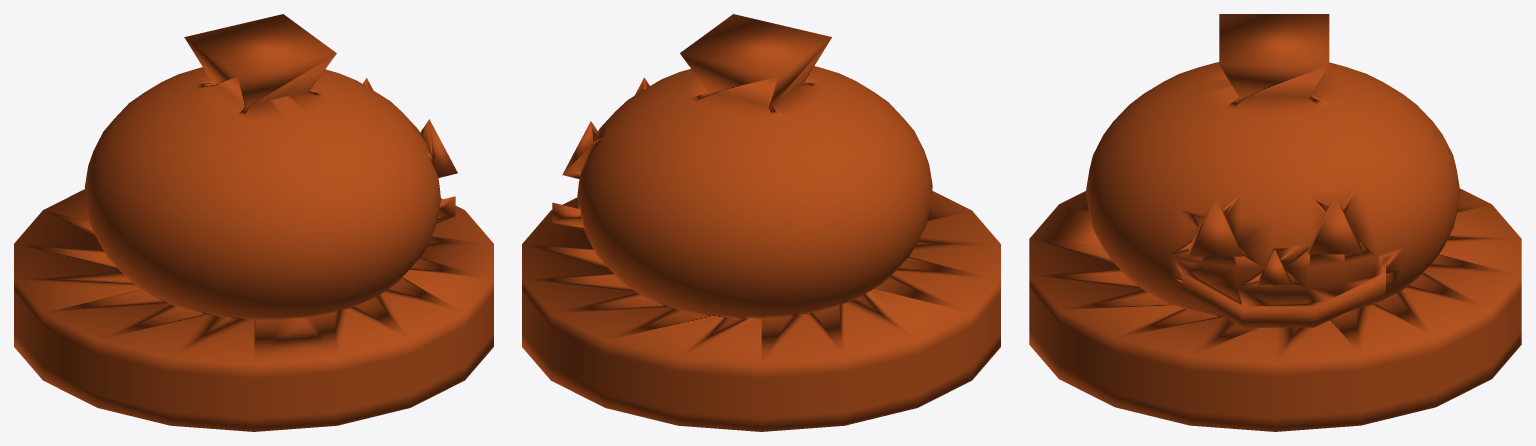
The model's file is Jacob the Pumpkin.obj.
3 views of the same model, side by side, from view 1: azimuth 30°, elevation 25°; view 2: azimuth 150°, elevation 25°; view 3: azimuth 270°, elevation 25° (orthographic). The views are drawn at different scales.
Parts seen in each view (by area): view 1: Jacon_the_Pumpkin; view 2: Jacon_the_Pumpkin; view 3: Jacon_the_Pumpkin.
Boxes of the visible parts, x1,y1,x2,y2 form: Jacon_the_Pumpkin: (14, 14, 493, 431); Jacon_the_Pumpkin: (522, 14, 1000, 431); Jacon_the_Pumpkin: (1029, 14, 1521, 431).
Size of the model in its own units: 20.67 by 13.25 by 20.36.
